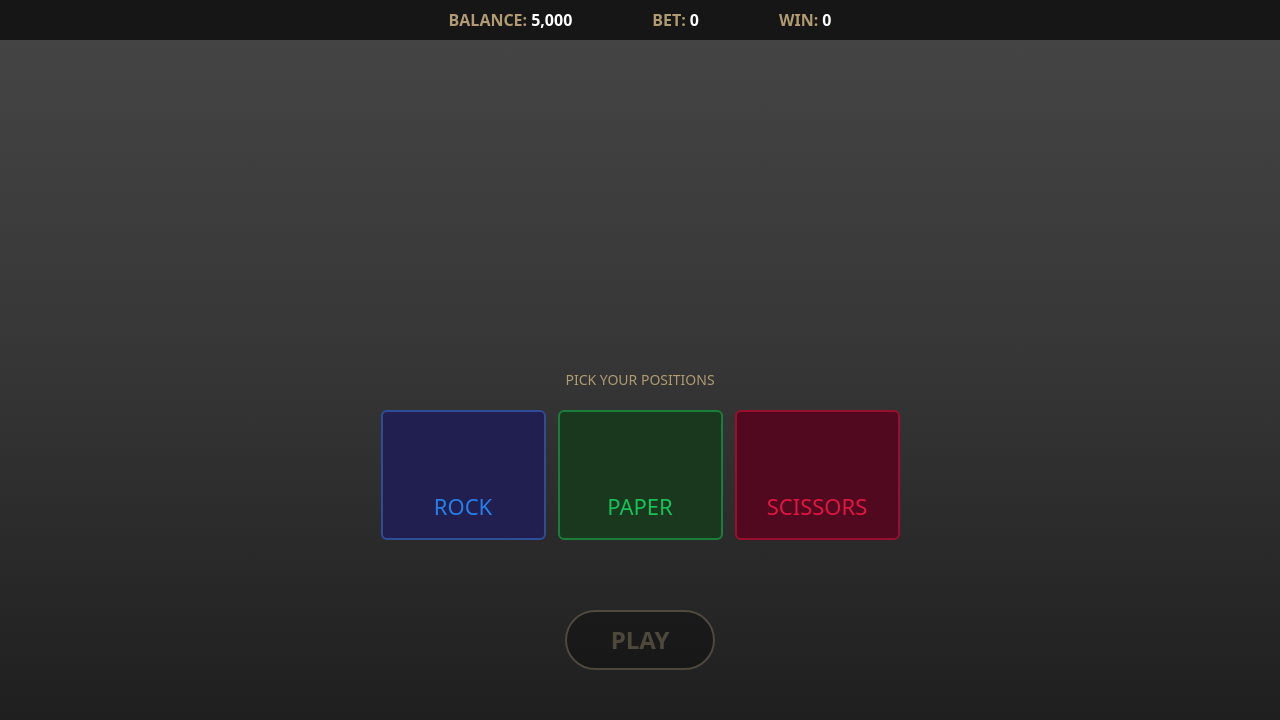
The bet is reduced from the balance.
Expected: the element with test id "balance" shows "5,000", [531, 9, 572, 31]
Note: click rock button
Click the button with test id "Rock_button" at (463, 475), box [380, 410, 546, 540]
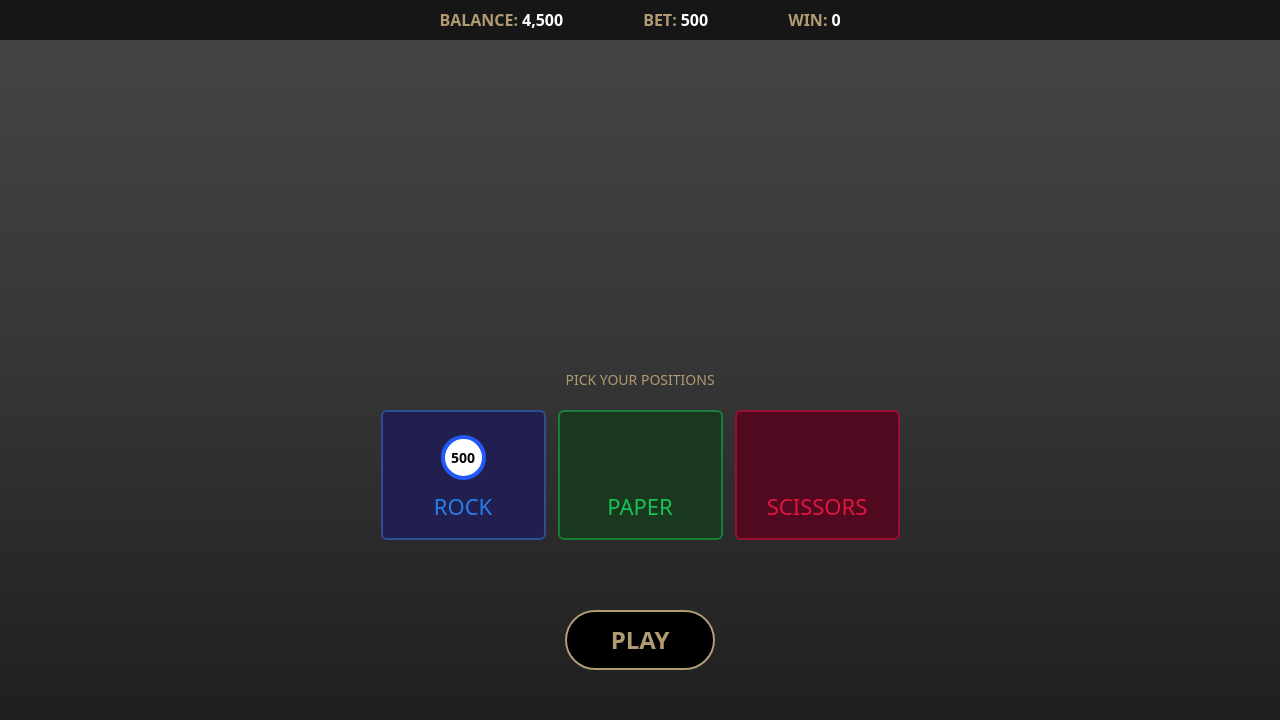
Now the element with test id "balance" shows "4,500", box [522, 9, 563, 31]
Now the element with test id "bet" shows "500", box [681, 9, 708, 31]
